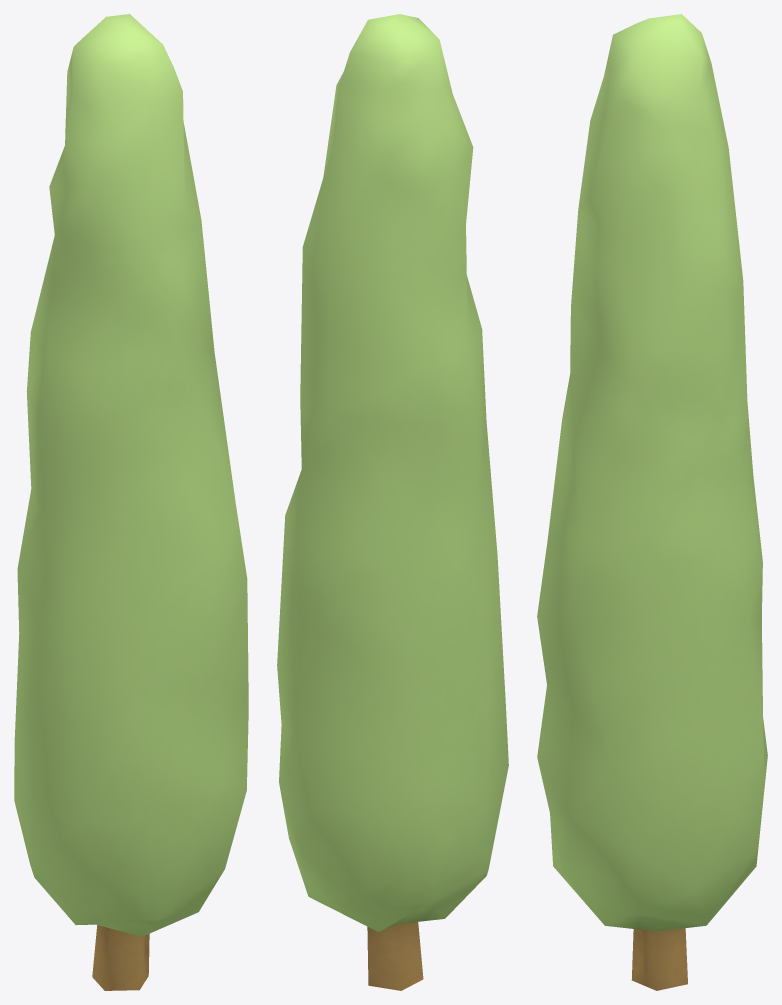
The picture shows the model from 3 angles, left to right: view 1: azimuth 30°, elevation 25°; view 2: azimuth 150°, elevation 25°; view 3: azimuth 270°, elevation 25°; orthographic projection.
Parts seen in each view (by area): view 1: tuya.001; view 2: tuya.001; view 3: tuya.001.
Boxes of the visible parts, bbox=[...] form: tuya.001: bbox=[14, 14, 248, 990]; tuya.001: bbox=[277, 14, 508, 990]; tuya.001: bbox=[537, 14, 767, 990].
Size of the model in its own units: 4.33 by 19.99 by 4.34.
Materials: 1 (1 with a texture image).
